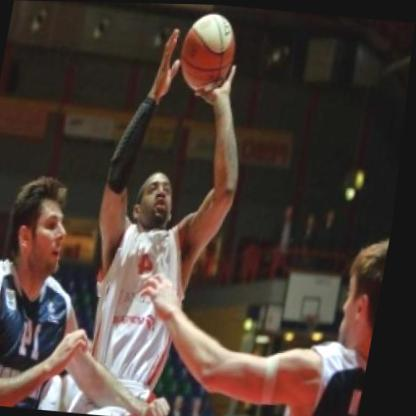basketball: (169, 4, 247, 96)
